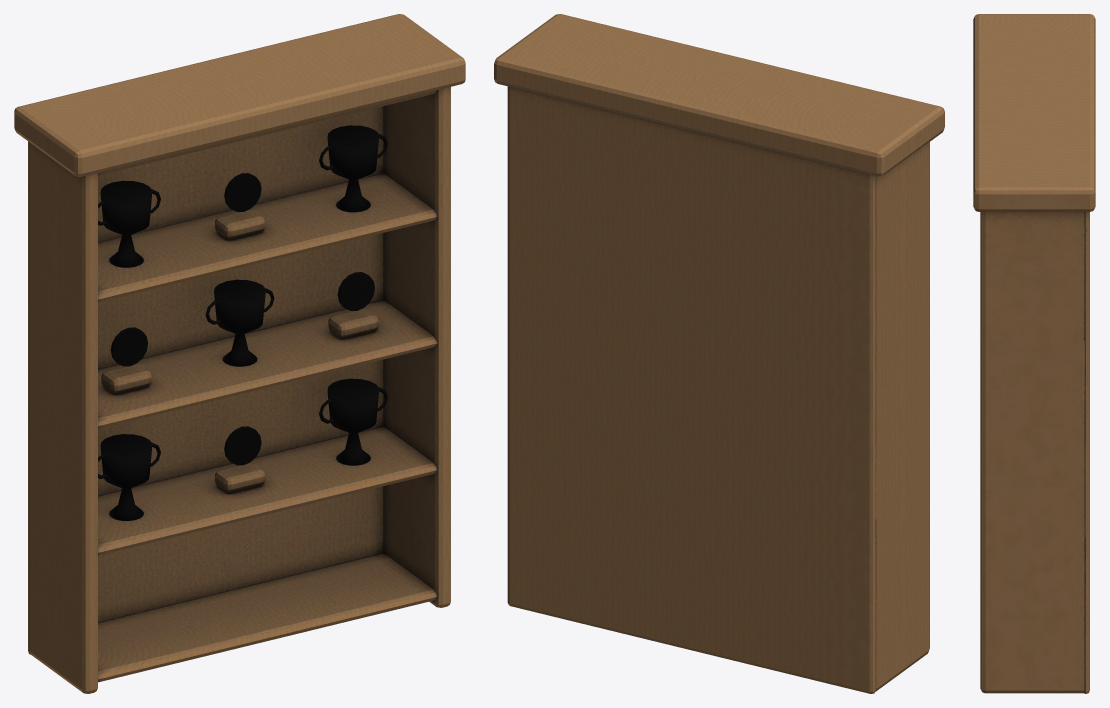
File: deco_estante_trofeus.glb
The picture shows the model from 3 angles, left to right: view 1: azimuth 30°, elevation 25°; view 2: azimuth 150°, elevation 25°; view 3: azimuth 270°, elevation 25°; orthographic projection. The views are drawn at different scales.
Visible parts, largest first — view 1: deco_estante_trofeus_tronco; view 2: deco_estante_trofeus_tronco; view 3: deco_estante_trofeus_tronco.
Part boxes in pixels (x1,y1,x2,y2): deco_estante_trofeus_tronco: (14,14,465,693); deco_estante_trofeus_tronco: (494,14,944,693); deco_estante_trofeus_tronco: (973,14,1095,693).
Bounding box in the file's own units: 1.55 × 2.08 × 0.45.
Materials: 1 (1 with a texture image).
